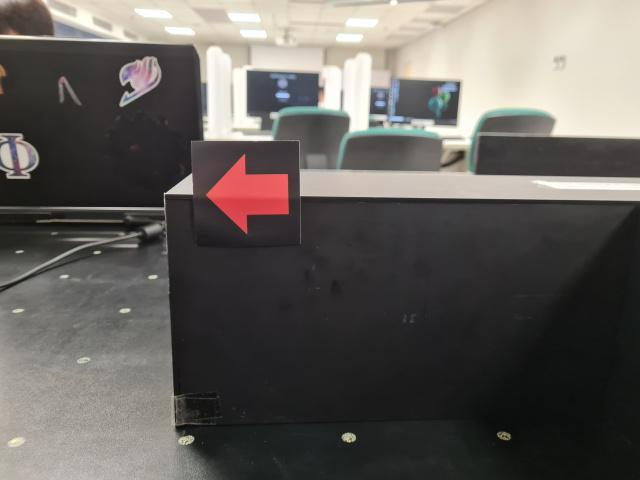left: (187, 138, 299, 250)
